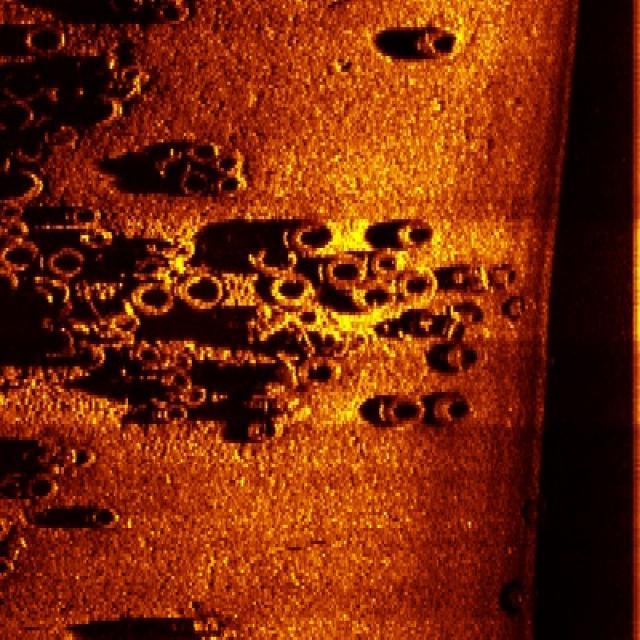other: (26, 219, 544, 456), (134, 123, 266, 200), (396, 8, 489, 75)
